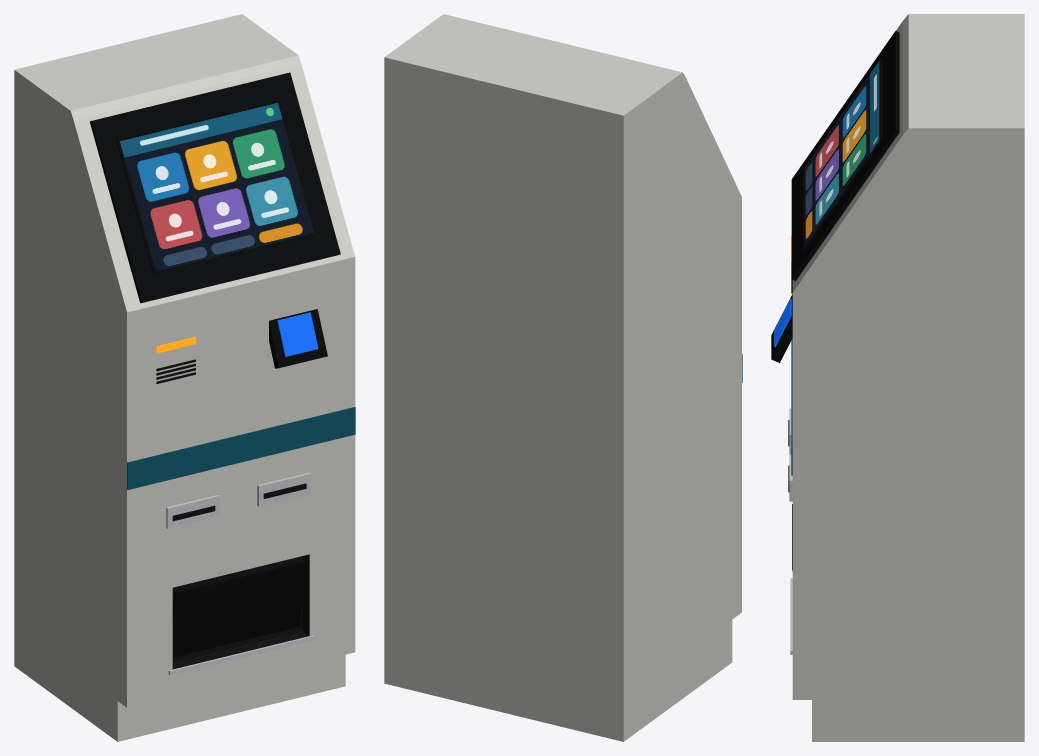
Rendered from gteki_ticket_kiosk.glb.
The picture shows the model from 3 angles, left to right: view 1: azimuth 30°, elevation 25°; view 2: azimuth 150°, elevation 25°; view 3: azimuth 270°, elevation 25°; orthographic projection. The views are drawn at different scales.
Parts seen in each view (by area): view 1: VIS_body; view 2: VIS_body; view 3: VIS_body.
Part boxes in pixels (x1,y1,x2,y2): VIS_body: (14,14,355,741); VIS_body: (384,14,742,741); VIS_body: (771,14,1024,741).
Size of what is drawn, in the model's own units: 0.7 by 1.75 by 0.6546.
Materials: 2 (2 with a texture image).
